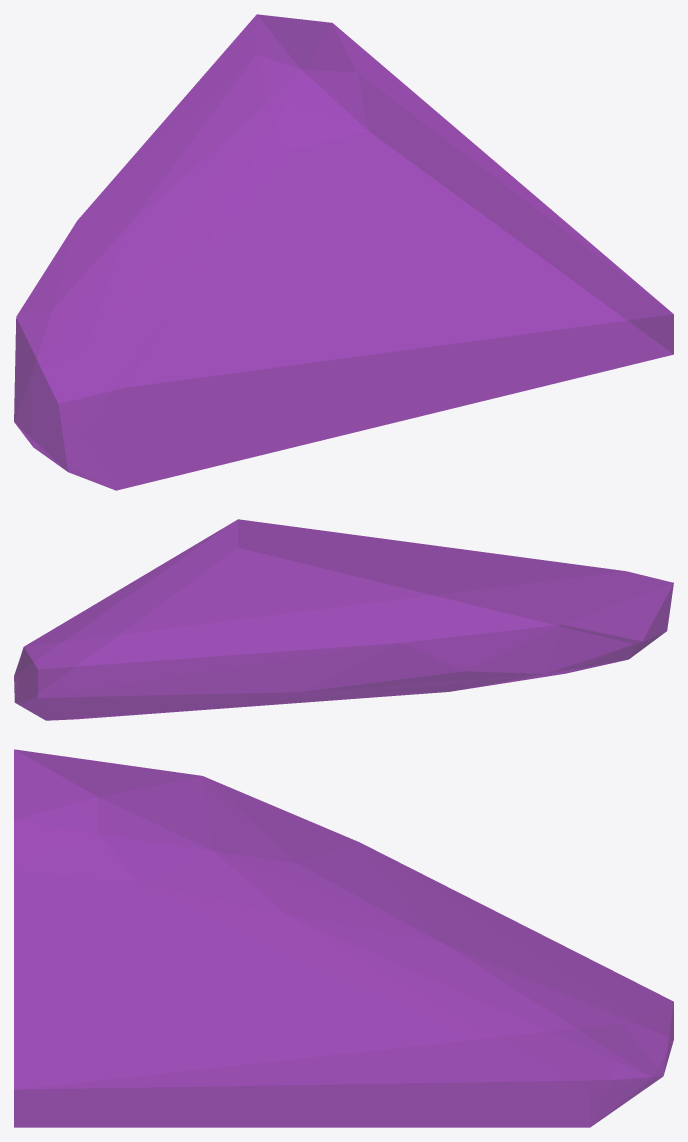
The picture shows the model from 3 angles, top to bottom: view 1: azimuth 30°, elevation 25°; view 2: azimuth 150°, elevation 25°; view 3: azimuth 270°, elevation 25°; orthographic projection. The views are drawn at different scales.
Parts seen in each view (by area): view 1: Shape_IndexedFaceSet.044_Shape_IndexedFaceSet.5483; view 2: Shape_IndexedFaceSet.044_Shape_IndexedFaceSet.5483; view 3: Shape_IndexedFaceSet.044_Shape_IndexedFaceSet.5483.
Boxes of the visible parts, x1,y1,x2,y2 form: Shape_IndexedFaceSet.044_Shape_IndexedFaceSet.5483: (14, 14, 673, 490); Shape_IndexedFaceSet.044_Shape_IndexedFaceSet.5483: (14, 519, 673, 720); Shape_IndexedFaceSet.044_Shape_IndexedFaceSet.5483: (14, 749, 673, 1127).
Bounding box in the file's own units: 0.0288 × 0.0045 × 0.0283.
